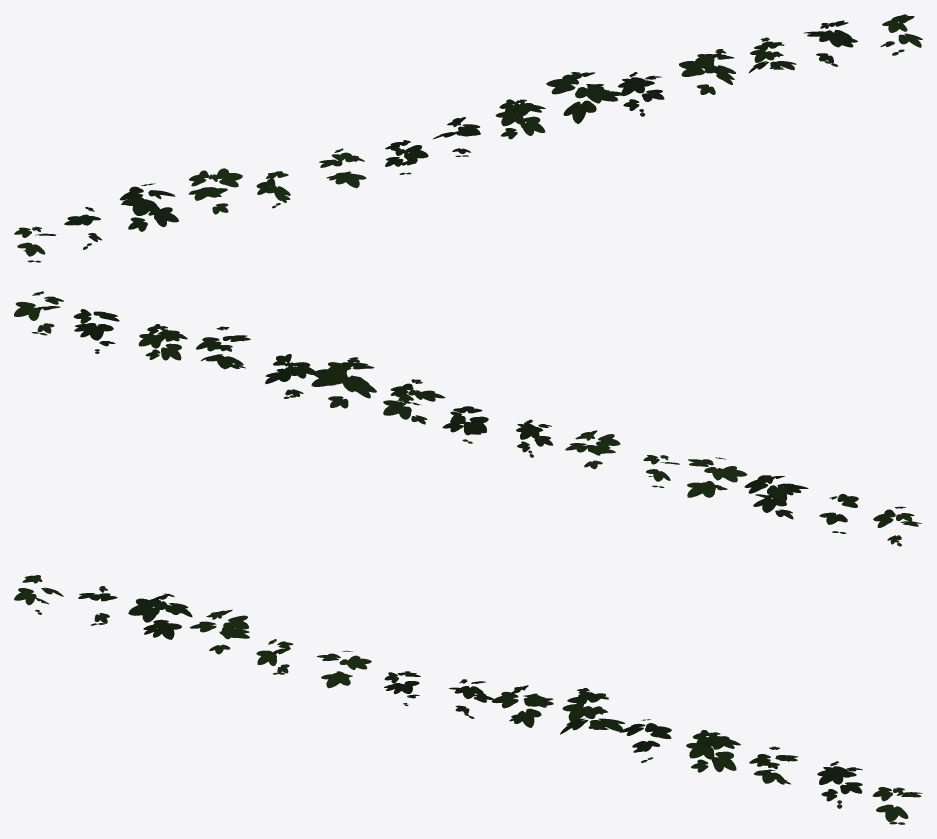
Rendered from ROW_02_SEG3_foliage.dae.
The picture shows the model from 3 angles, top to bottom: view 1: azimuth 30°, elevation 25°; view 2: azimuth 150°, elevation 25°; view 3: azimuth 330°, elevation 25°; orthographic projection.
Parts seen in each view (by area): view 1: ROW_02_SEG3_foliage; view 2: ROW_02_SEG3_foliage; view 3: ROW_02_SEG3_foliage.
Part boxes in pixels (<box>): ROW_02_SEG3_foliage: <box>14,14,922,262</box>; ROW_02_SEG3_foliage: <box>14,291,921,546</box>; ROW_02_SEG3_foliage: <box>14,575,922,824</box>.
Size of the model in its own units: 4.46 by 0.3377 by 0.2642.
